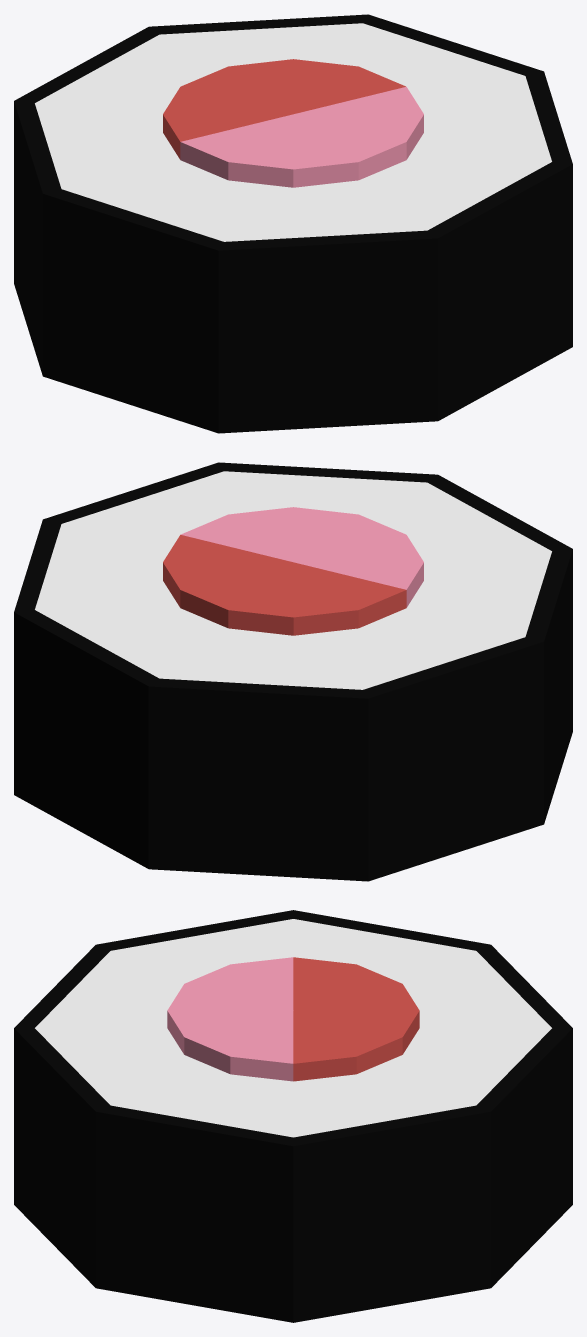
The model's file is sushi_02.fbx.
3 views of the same model, one above another, from view 1: azimuth 30°, elevation 25°; view 2: azimuth 150°, elevation 25°; view 3: azimuth 270°, elevation 25° (orthographic). The views are drawn at different scales.
Parts seen in each view (by area): view 1: Cylinder011, Cylinder012; view 2: Cylinder011, Cylinder012; view 3: Cylinder011, Cylinder012.
Part boxes in pixels (x1=…): Cylinder011: x1=14, y1=14, x2=572, y2=433; Cylinder012: x1=163, y1=59, x2=423, y2=187; Cylinder011: x1=14, y1=462, x2=572, y2=881; Cylinder012: x1=163, y1=507, x2=423, y2=635; Cylinder011: x1=14, y1=910, x2=572, y2=1322; Cylinder012: x1=167, y1=957, x2=419, y2=1081.
Size of the model in its own units: 287 by 120 by 287.
1 material, 1 textured.
